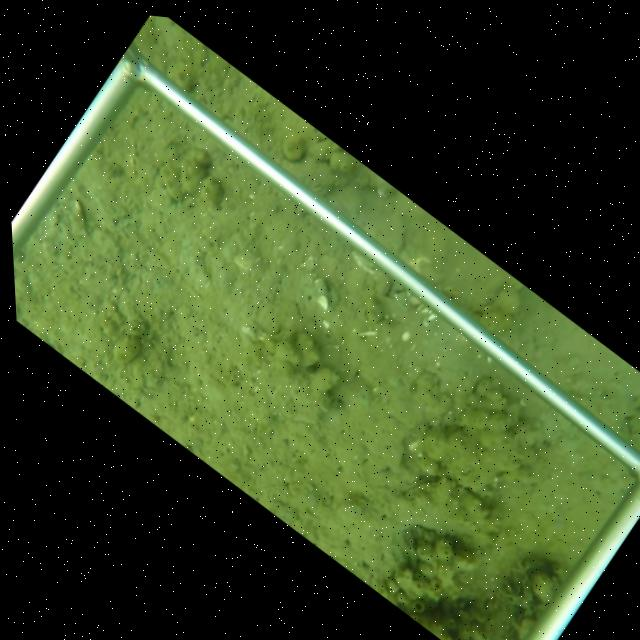Oyster-Closed: (395, 474, 444, 505)
